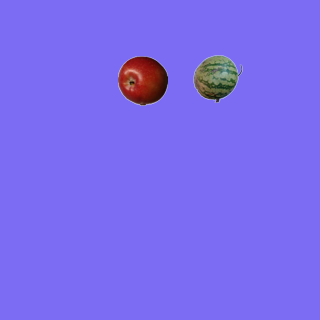Apple Braeburn: (117, 55, 167, 105)
Watermelon: (192, 53, 242, 103)
